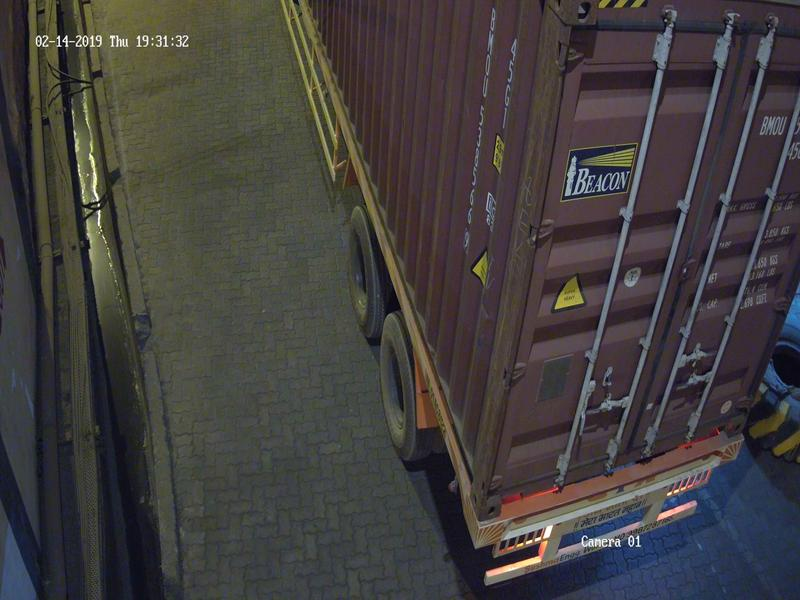container: (299, 4, 800, 511)
